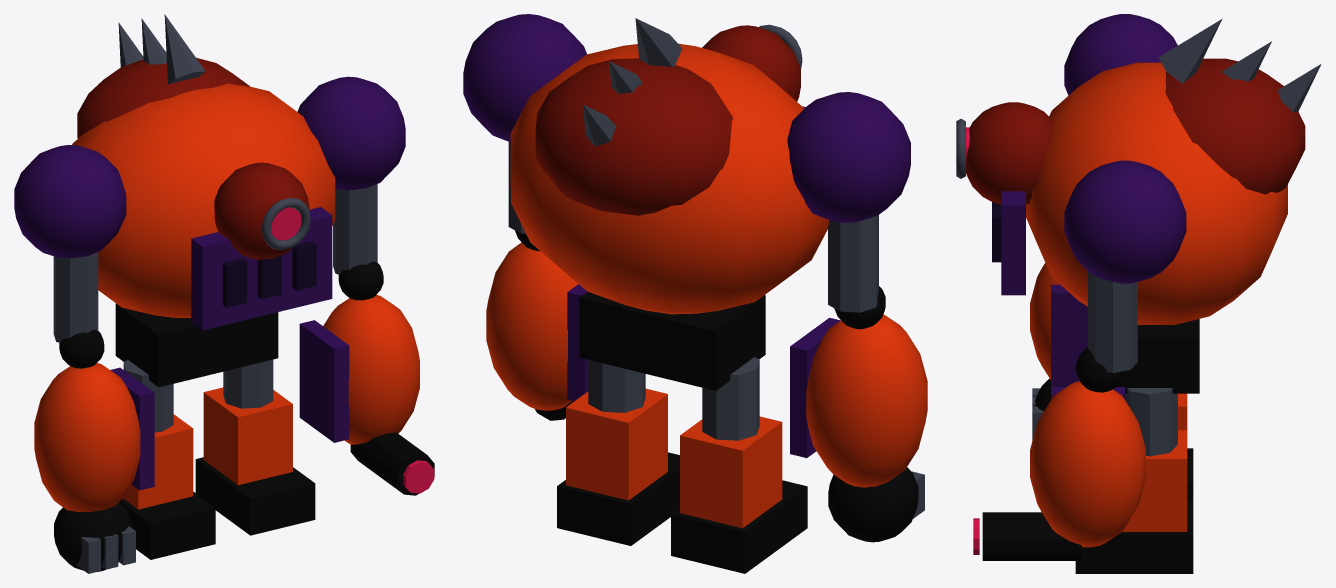
The model's file is Enemy_charger.fbx.
3 renders of one model, left to right at view 1: azimuth 30°, elevation 25°; view 2: azimuth 150°, elevation 25°; view 3: azimuth 270°, elevation 25°, orthographic. The views are drawn at different scales.
Parts seen in each view (by area): view 1: Enemy_charger; view 2: Enemy_charger; view 3: Enemy_charger.
Boxes of the visible parts, bbox=[...] form: Enemy_charger: bbox=[14, 14, 434, 573]; Enemy_charger: bbox=[463, 14, 927, 573]; Enemy_charger: bbox=[956, 14, 1321, 573].
Size of the model in its own units: 0.752 by 0.9119 by 0.5899.
